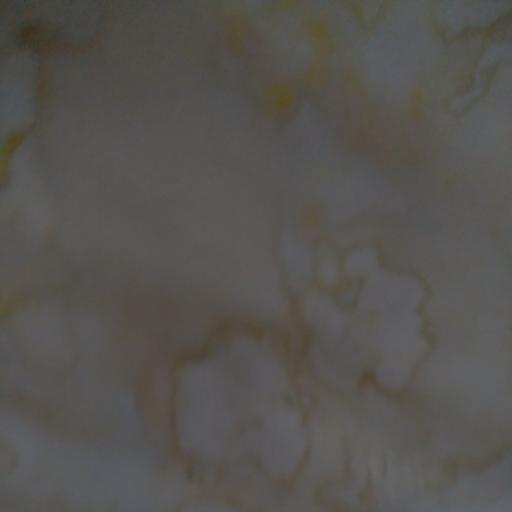algae: (10, 19, 491, 511)
